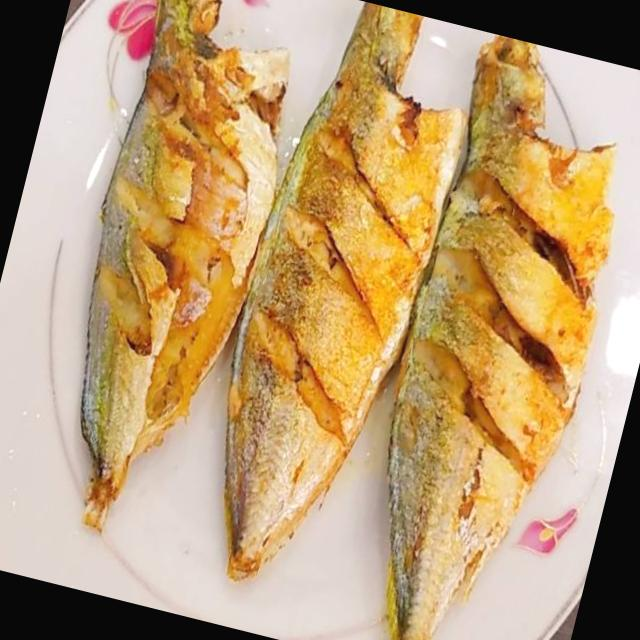ca chien: (387, 34, 613, 640), (227, 2, 463, 577), (82, 0, 286, 528)
